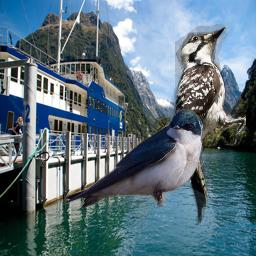Swallow: (63, 109, 204, 207)
Woodpecker: (164, 22, 246, 228)
